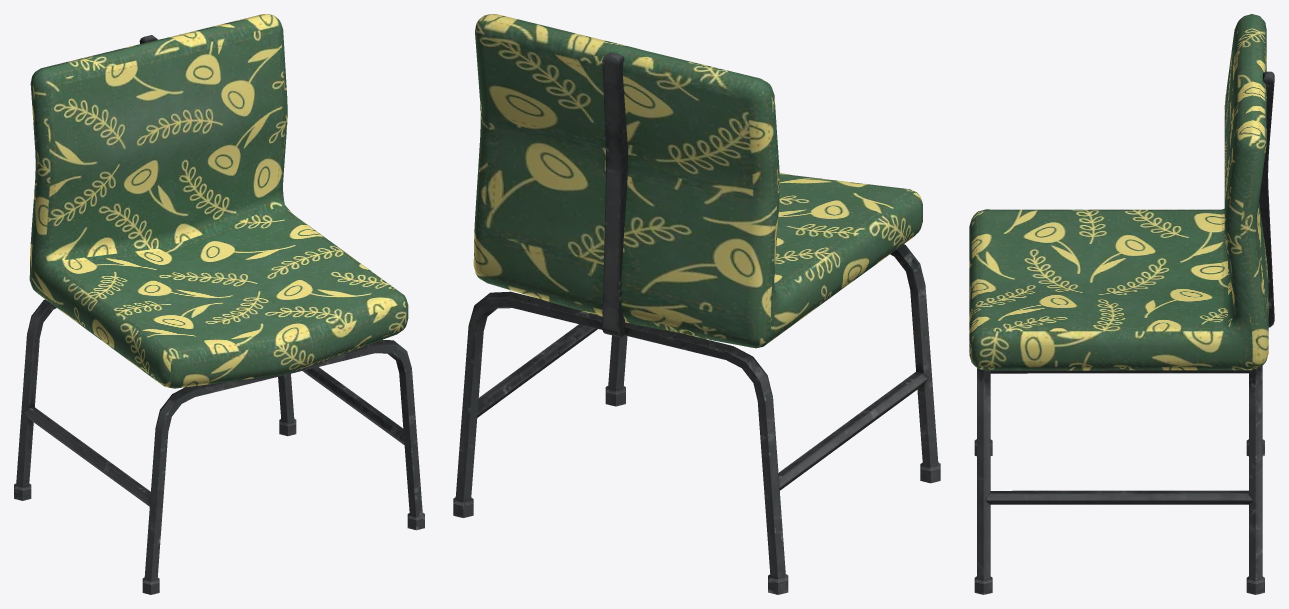
Rendered from chair70s-transformed.glb.
3 renders of one model, left to right at view 1: azimuth 30°, elevation 25°; view 2: azimuth 150°, elevation 25°; view 3: azimuth 270°, elevation 25°, orthographic. The views are drawn at different scales.
Parts seen in each view (by area): view 1: Vert.002; view 2: Vert.002; view 3: Vert.002.
Part boxes in pixels (x1,y1,x2,y2): Vert.002: [14, 14, 424, 594]; Vert.002: [453, 14, 940, 594]; Vert.002: [969, 14, 1274, 594].
Bounding box in the file's own units: 22.86 × 32.78 × 20.2.
2 materials, 2 textured.
